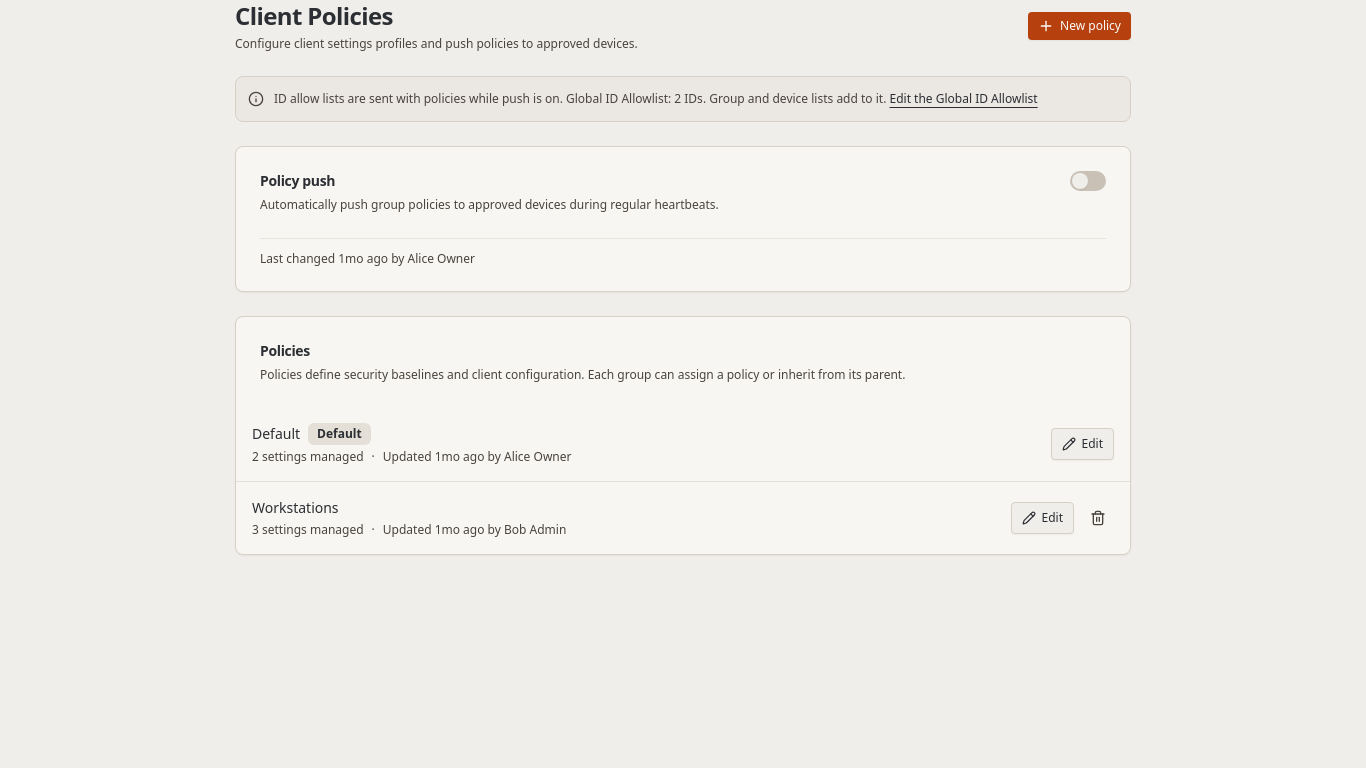
Test: PoliciesView › handles policy delete with 409 in_use exact message
Click the button named "delete workstations". click: click(1098, 518)
box: [1082, 502, 1114, 534]
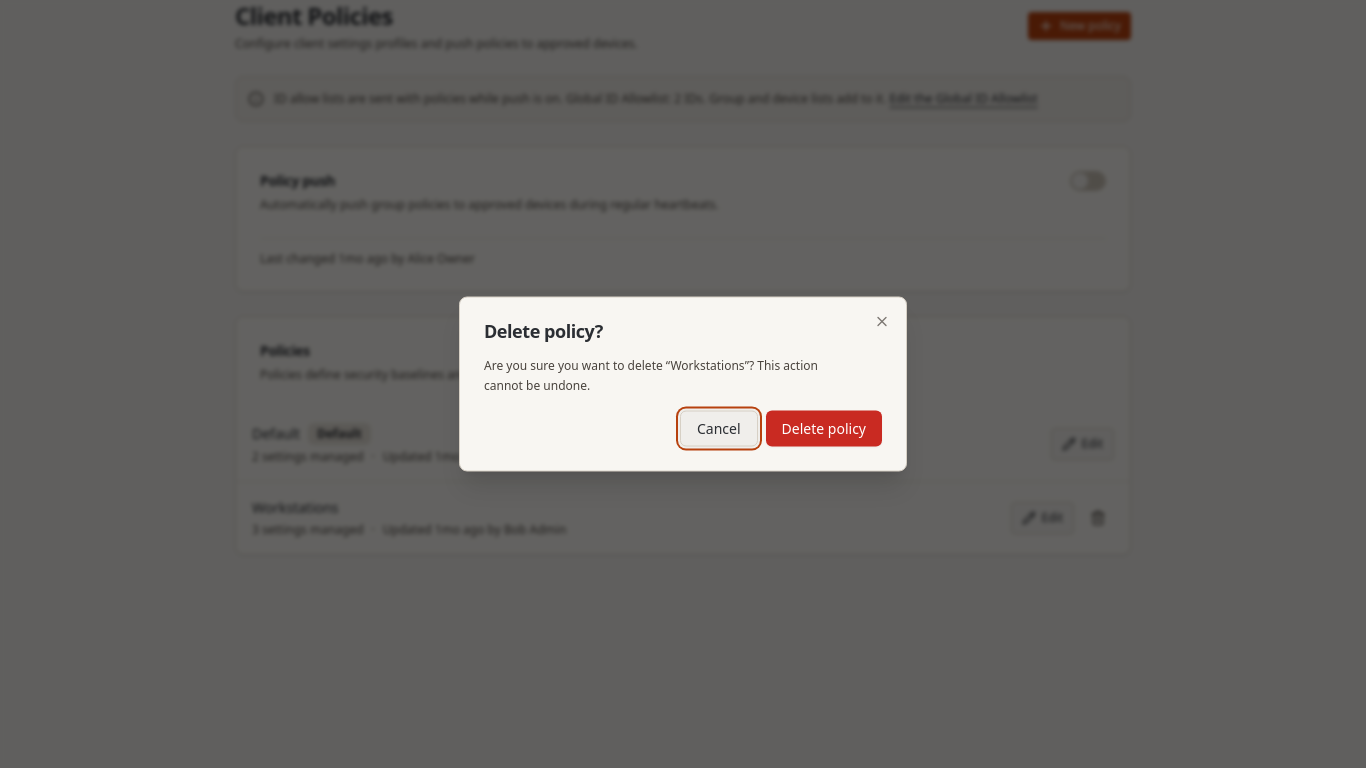
Click the button "Delete policy". click: click(824, 428)
box: [766, 410, 882, 446]
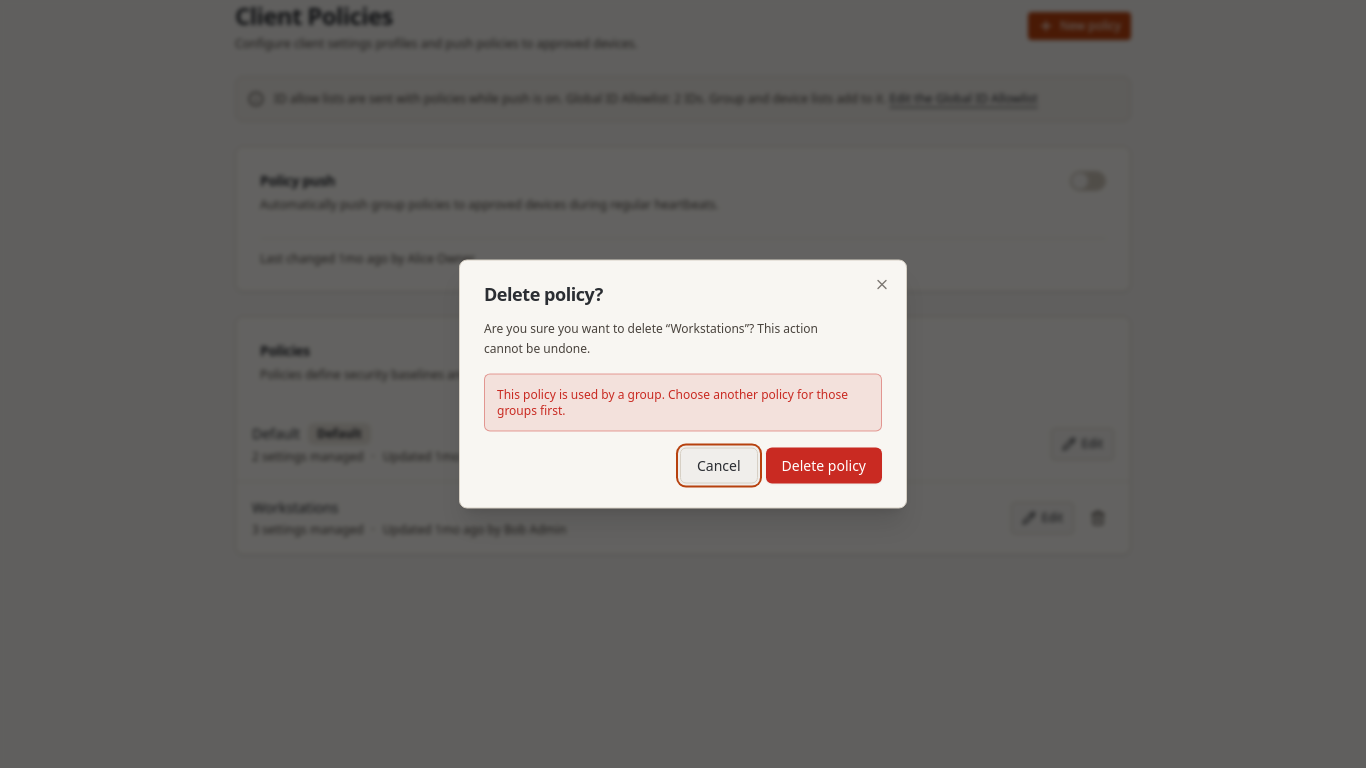
Check: the text "This policy is used by a group. Choose another policy for those groups first." is shown, box [484, 374, 882, 432]
